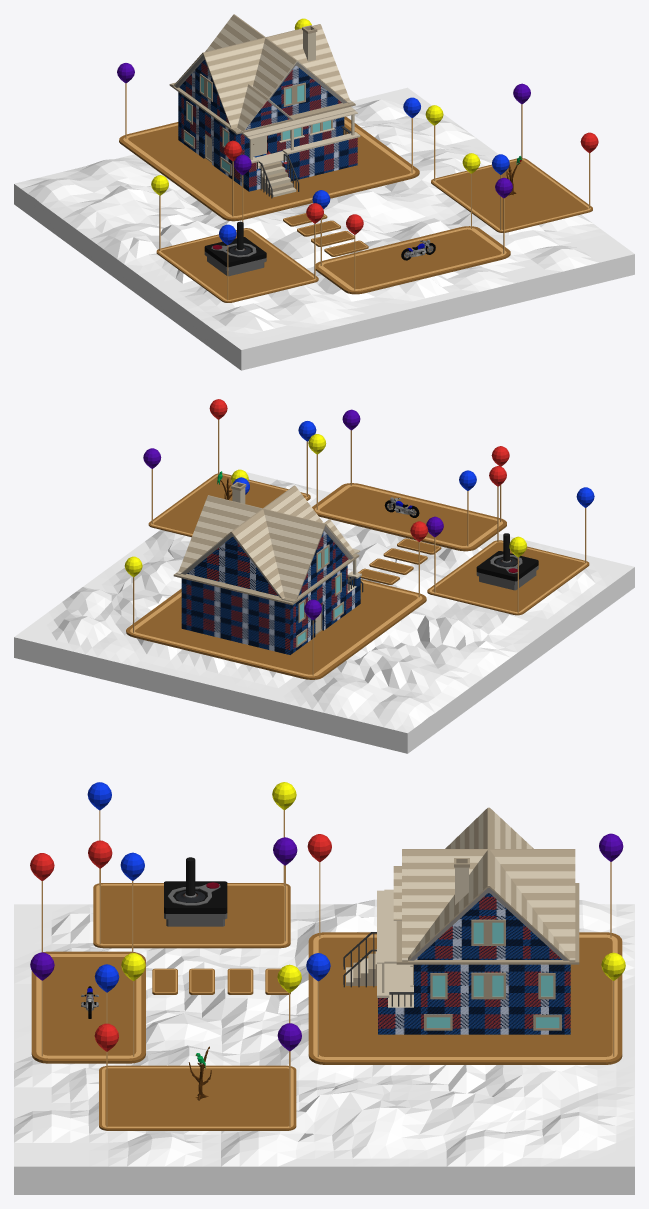
The picture shows the model from 3 angles, top to bottom: view 1: azimuth 30°, elevation 25°; view 2: azimuth 150°, elevation 25°; view 3: azimuth 270°, elevation 25°; orthographic projection. The views are drawn at different scales.
Parts seen in each view (by area): view 1: Cube.013, Cube.171, OBJRANDOM_JOYSTICK; view 2: Cube.013, Cube.171, OBJRANDOM_JOYSTICK; view 3: Cube.013, Cube.171, OBJRANDOM_JOYSTICK.
Boxes of the visible parts, x1,y1,x2,y2 form: Cube.013: [14, 18, 634, 370]; Cube.171: [169, 14, 360, 198]; OBJRANDOM_JOYSTICK: [204, 221, 266, 276]; Cube.013: [14, 399, 634, 753]; Cube.171: [173, 482, 363, 654]; OBJRANDOM_JOYSTICK: [476, 533, 538, 590]; Cube.013: [14, 782, 634, 1194]; Cube.171: [343, 807, 579, 1034]; OBJRANDOM_JOYSTICK: [164, 857, 227, 926].
Size of the model in its own units: 4000 by 1789 by 4000.
Materials: 34 (2 with a texture image).
